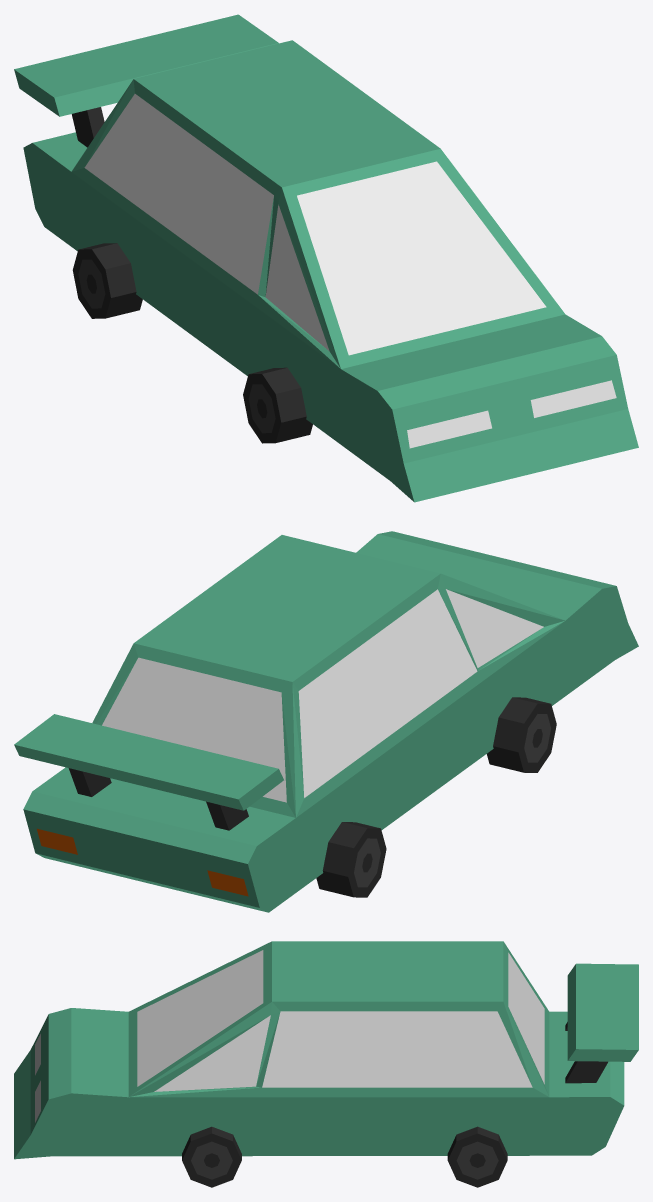
Rendered from C_Car_05.fbx.
3 renders of one model, top to bottom at view 1: azimuth 30°, elevation 25°; view 2: azimuth 150°, elevation 25°; view 3: azimuth 270°, elevation 25°, orthographic. The views are drawn at different scales.
Parts seen in each view (by area): view 1: Car_05, wheel_5_3, wheel_5_4; view 2: Car_05, wheel_5_4, wheel_5_3; view 3: Car_05, wheel_5_1, wheel_5_2.
Part boxes in pixels (bbox=[...]): Car_05: bbox=[14, 14, 638, 502]; wheel_5_3: bbox=[243, 367, 312, 443]; wheel_5_4: bbox=[72, 243, 142, 318]; Car_05: bbox=[14, 531, 638, 912]; wheel_5_4: bbox=[316, 822, 386, 897]; wheel_5_3: bbox=[487, 697, 556, 772]; Car_05: bbox=[14, 941, 638, 1159]; wheel_5_1: bbox=[447, 1126, 507, 1187]; wheel_5_2: bbox=[182, 1126, 241, 1187].
Bounding box in the file's own units: 19.21 × 14.62 × 49.68.
